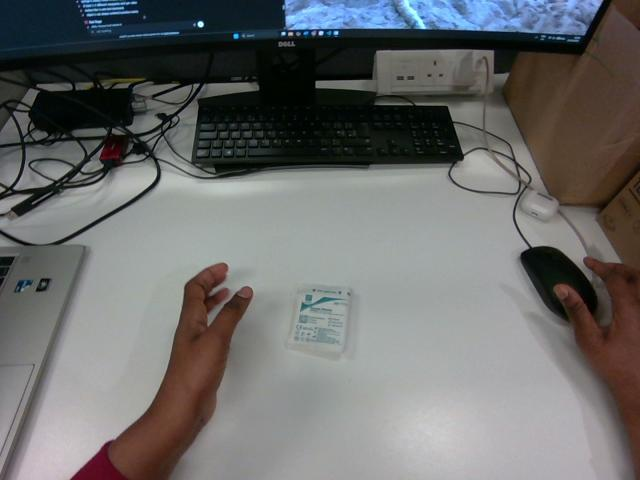gauze: (287, 285, 351, 358)
